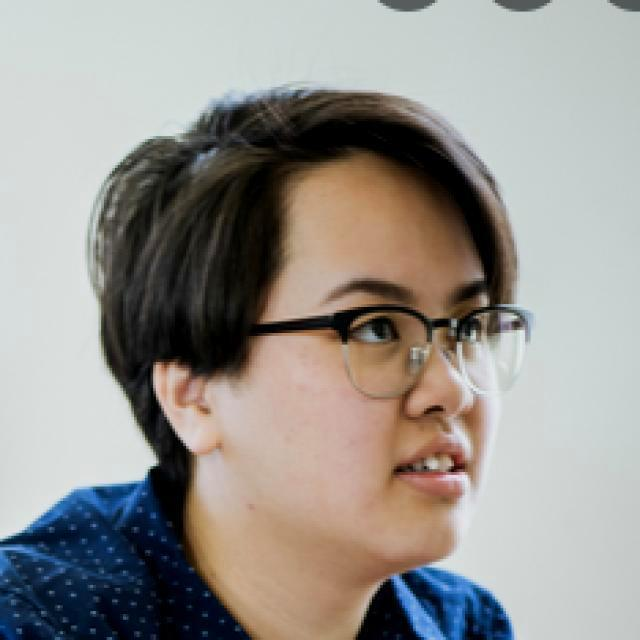Looking forward: (241, 155, 511, 568)
